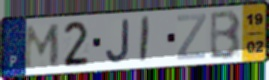2: (62, 20, 91, 69)
B: (208, 9, 243, 61)
I: (138, 15, 152, 65)
J: (104, 18, 131, 65)
M: (23, 23, 63, 71)
Z: (176, 12, 208, 61)
